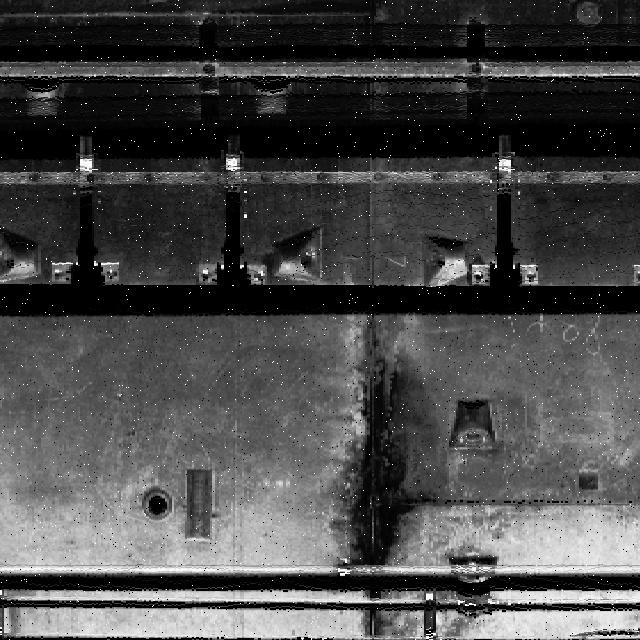leakage: (325, 313, 434, 636)
